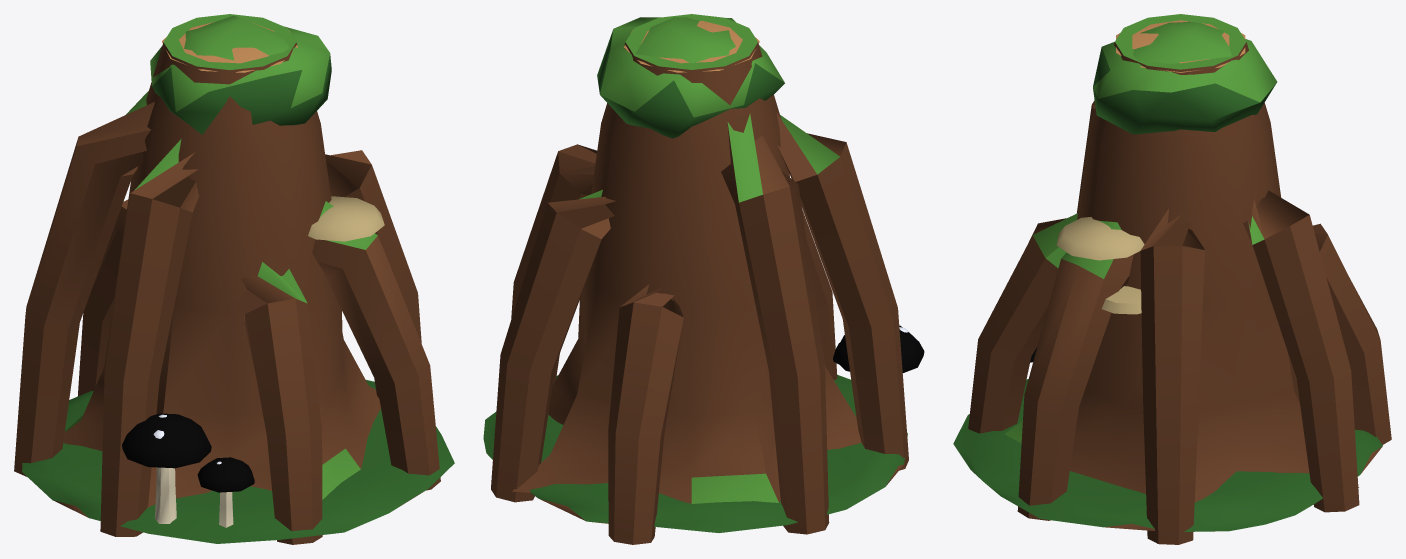
File: RootTangle.fbx
3 renders of one model, left to right at view 1: azimuth 30°, elevation 25°; view 2: azimuth 150°, elevation 25°; view 3: azimuth 270°, elevation 25°, orthographic.
Visible parts, largest first — view 1: RootTangle; view 2: RootTangle; view 3: RootTangle.
Boxes of the visible parts, box(x1,y1,x2,y2) form: RootTangle: box(14, 14, 454, 544); RootTangle: box(483, 14, 924, 544); RootTangle: box(953, 14, 1391, 544).
Bounding box in the file's own units: 1.64 × 1.83 × 1.68.
Materials: 2 (2 with a texture image).
